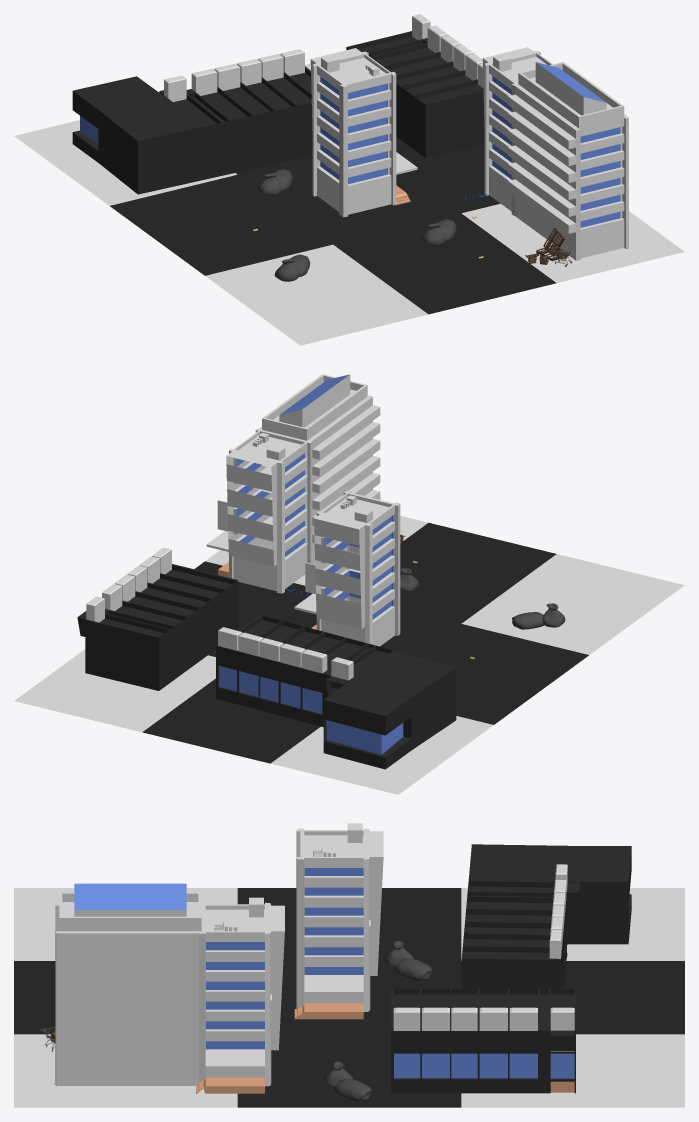
The model's file is city.glb.
3 views of the same model, one above another, from view 1: azimuth 30°, elevation 25°; view 2: azimuth 150°, elevation 25°; view 3: azimuth 270°, elevation 25° (orthographic). The views are drawn at different scales.
Visible parts, largest first — view 1: Builidings, Ground, WasteBasket3, WasteBasket4, WasteBasket2; view 2: Builidings, Ground, WasteBasket3; view 3: Builidings, Ground, WasteBasket1, WasteBasket4.
Part boxes in pixels (box(x1,y1,x2,y2)): Builidings: box(72, 14, 628, 260); Ground: box(14, 63, 684, 345); WasteBasket3: box(274, 254, 310, 281); WasteBasket4: box(257, 169, 292, 196); WasteBasket2: box(421, 219, 456, 246); Builidings: box(77, 374, 456, 769); Ground: box(14, 516, 684, 794); WasteBasket3: box(512, 603, 565, 629); Builidings: box(54, 823, 631, 1093); Ground: box(14, 888, 684, 1107); WasteBasket1: box(324, 1061, 371, 1101); WasteBasket4: box(385, 941, 432, 980).
Size of the model in its own units: 21.6 by 8.44 by 27.87.
Materials: 12 (2 with a texture image).
